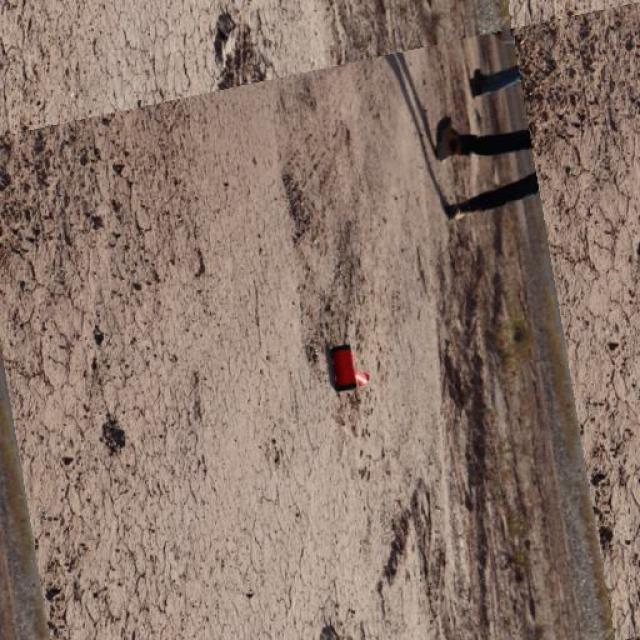mallet: (328, 342, 368, 392)
